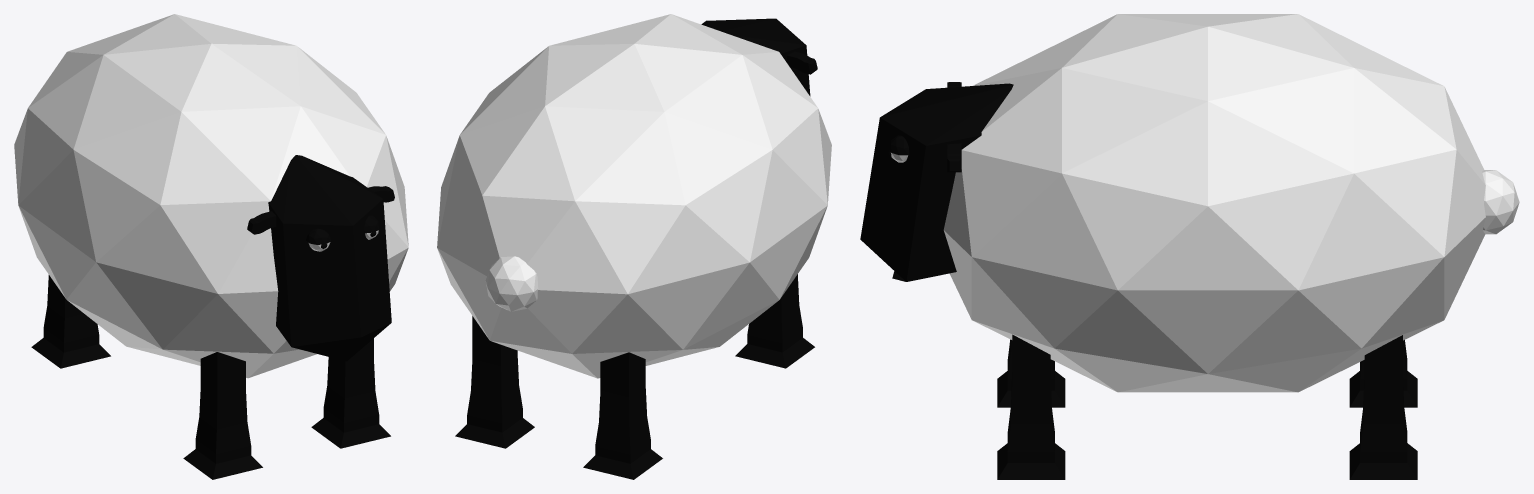
Rendered from Obeja.fbx.
3 views of the same model, side by side, from view 1: azimuth 30°, elevation 25°; view 2: azimuth 150°, elevation 25°; view 3: azimuth 270°, elevation 25° (orthographic). The views are drawn at different scales.
Visible parts, largest first — view 1: Icosphere.004; view 2: Icosphere.004; view 3: Icosphere.004.
Part boxes in pixels (box(x1,y1,x2,y2)): Icosphere.004: box(14, 14, 408, 479); Icosphere.004: box(437, 14, 831, 479); Icosphere.004: box(860, 14, 1519, 479).
Size of the model in its own units: 150 by 162 by 240.
